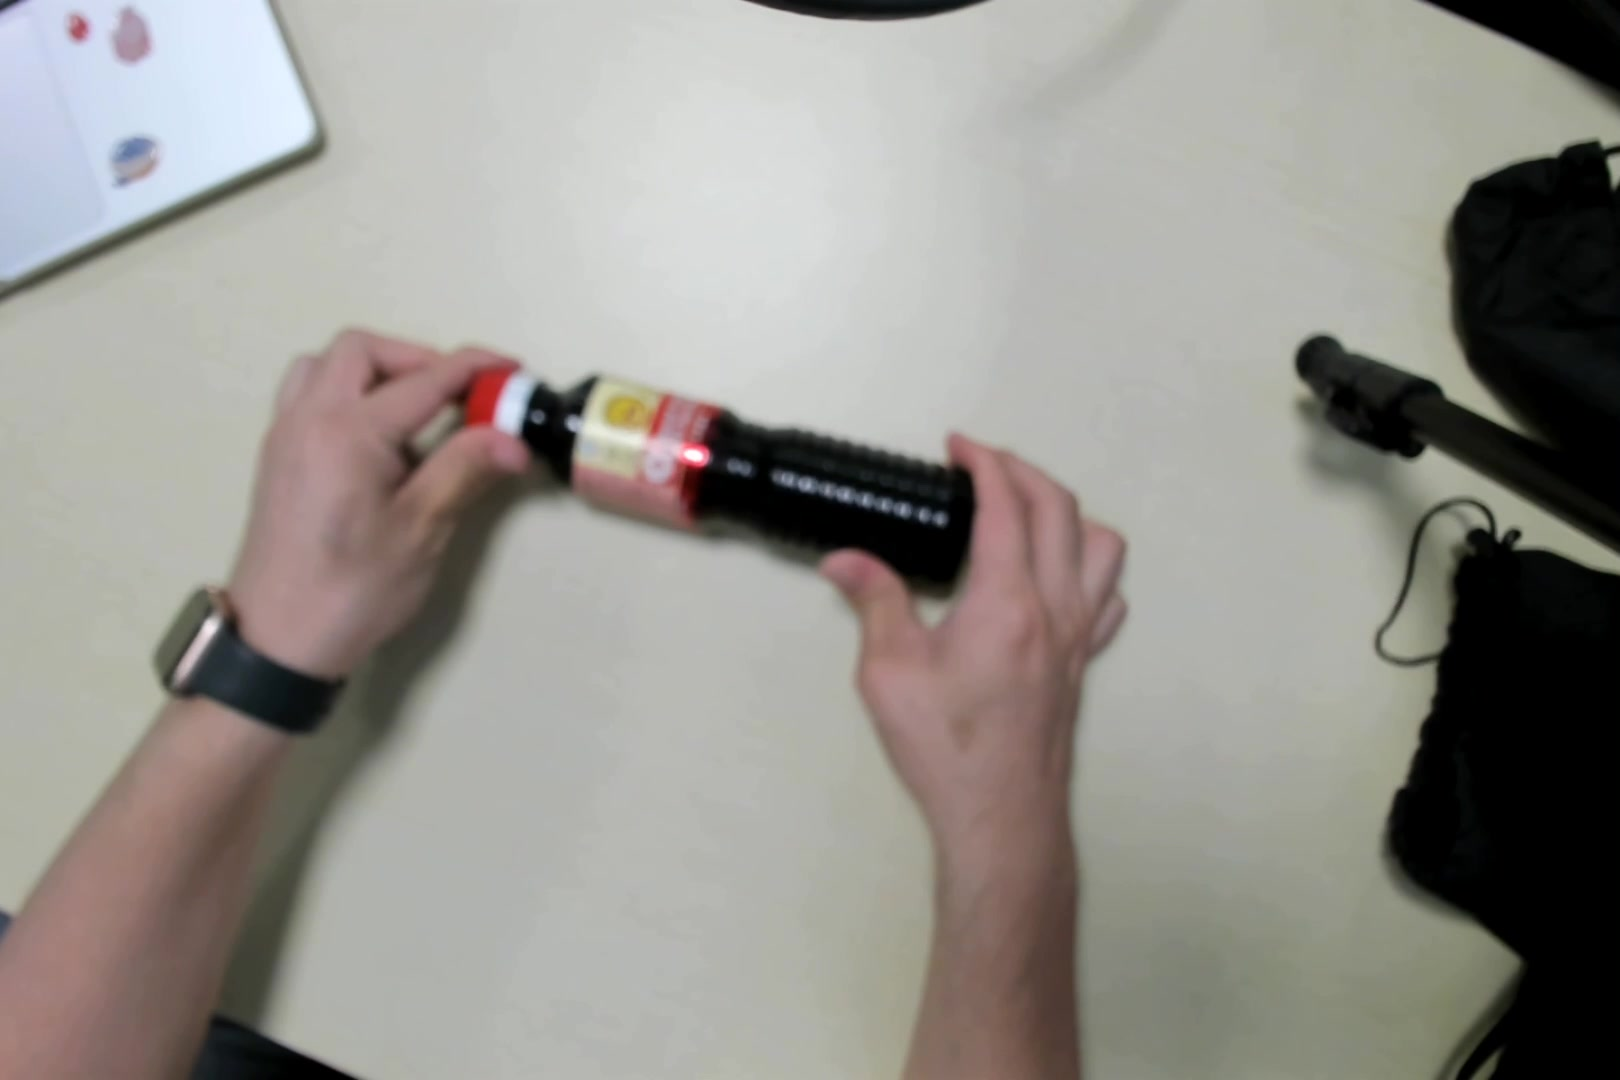DarkSoySauce_300-399g_Halal_NonHealthy: (466, 364, 982, 595)
